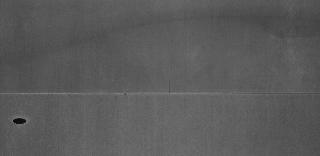punching hole: (11, 115, 31, 125)
welding line: (4, 90, 320, 98)
